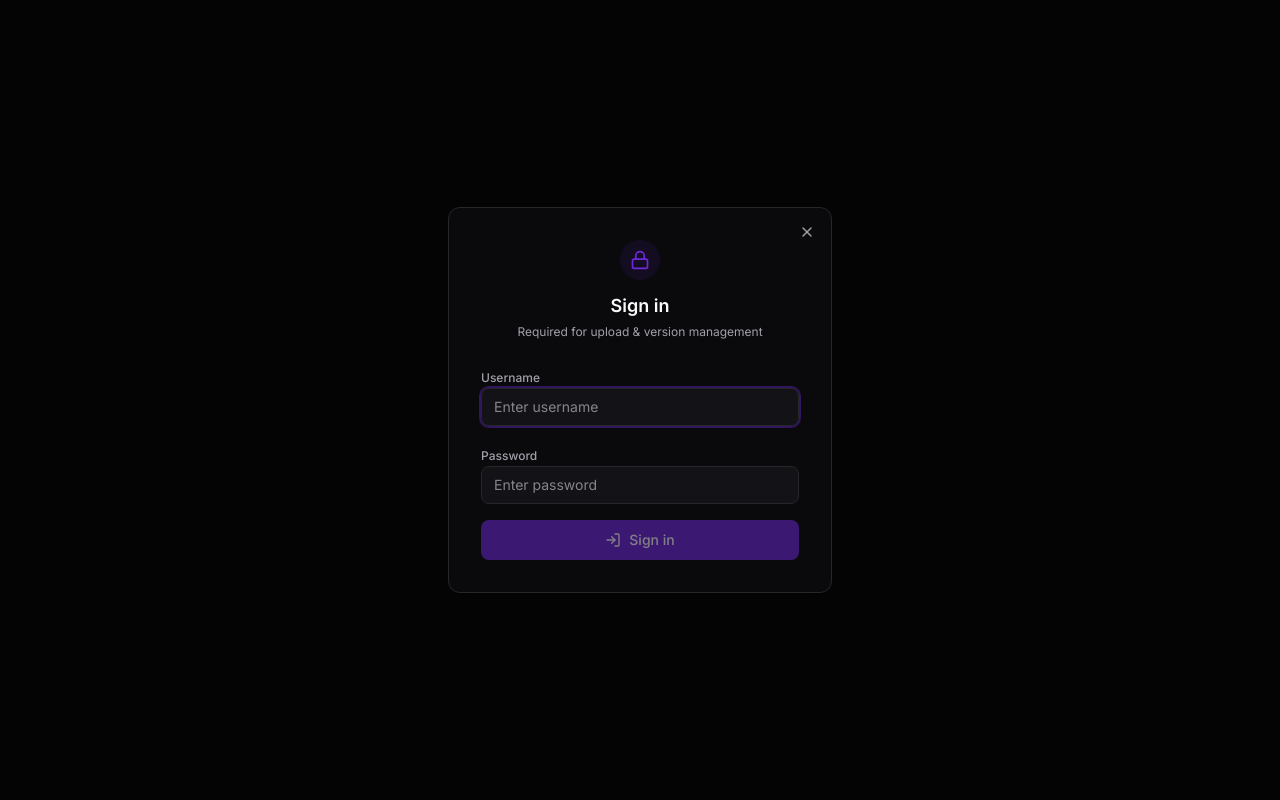
LoginModal › clears the previous error when submitting again
Type "alice" into the field with placeholder "Enter username" at (640, 407), box [481,388,799,426]
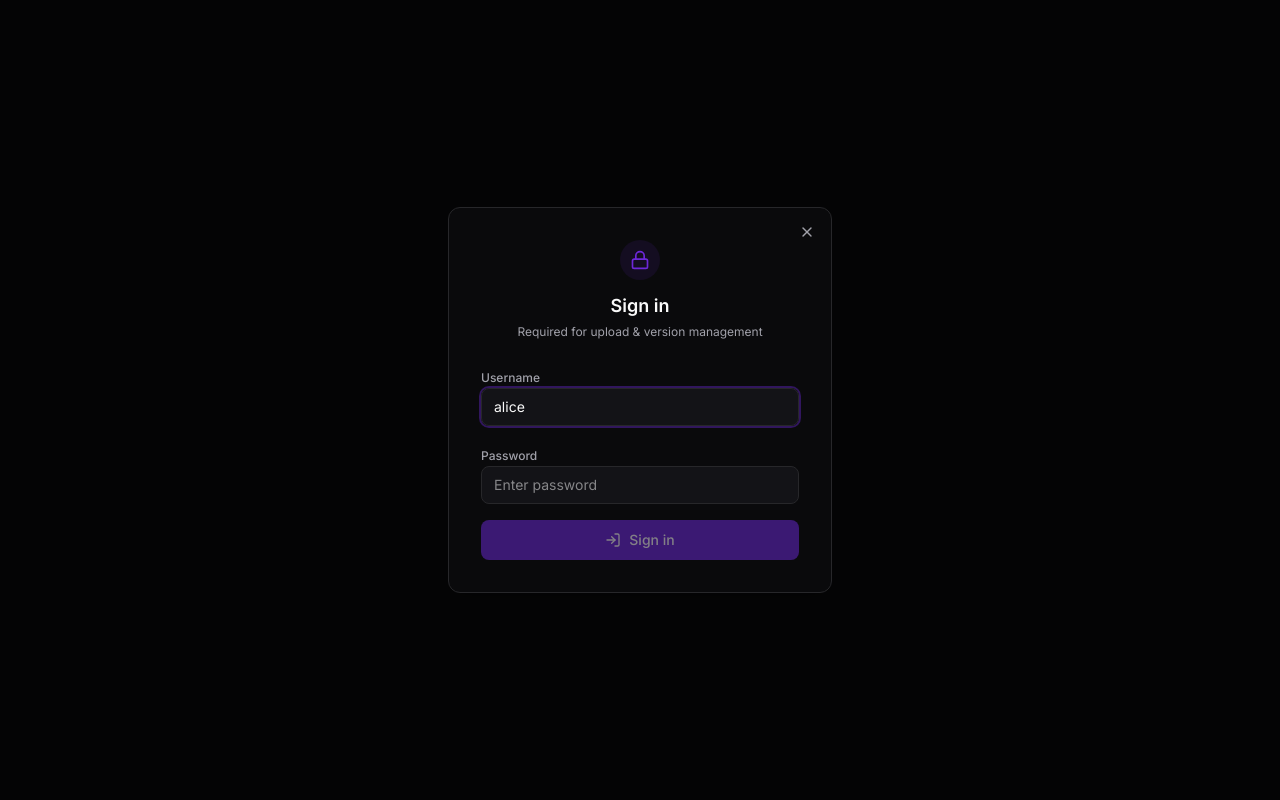
Type "bad" into the password field with placeholder "Enter password" at (640, 485), box [481,466,799,504]
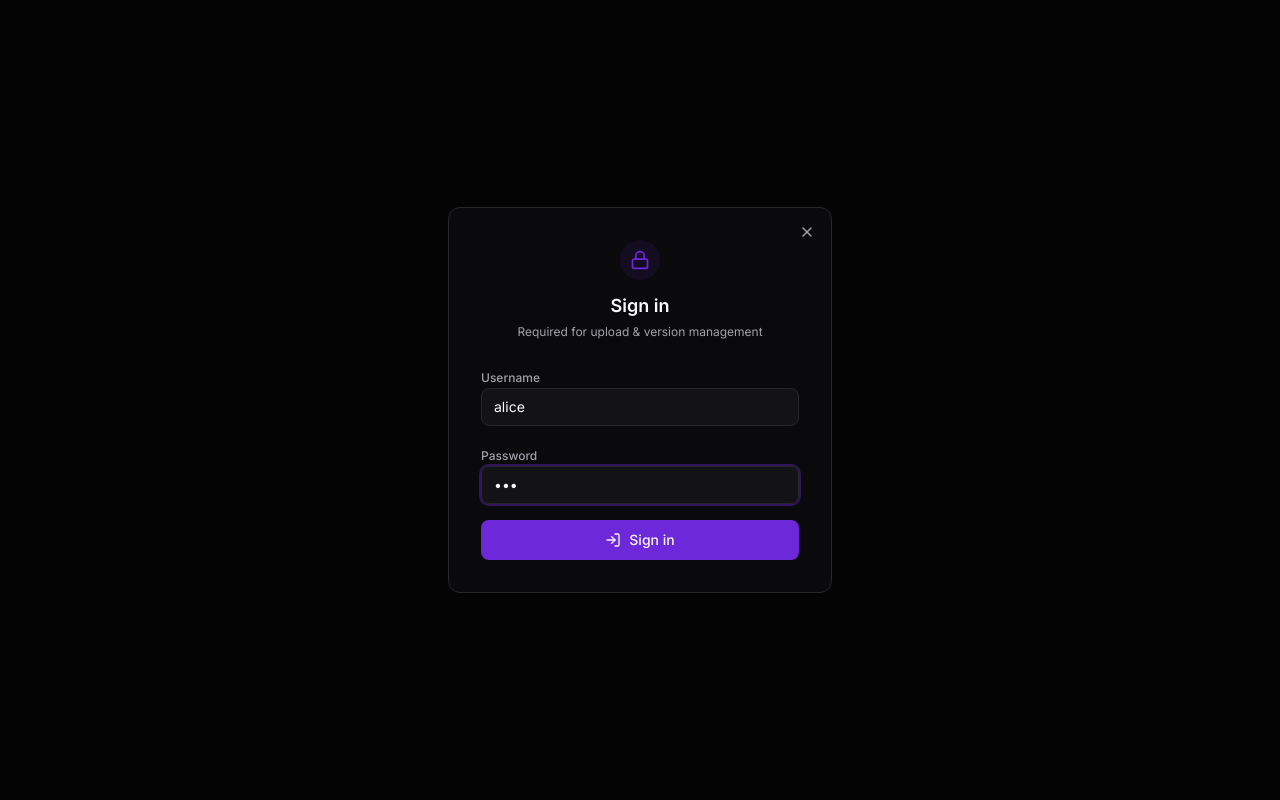
Click the button "Sign in" at (640, 540), box [481,520,799,560]
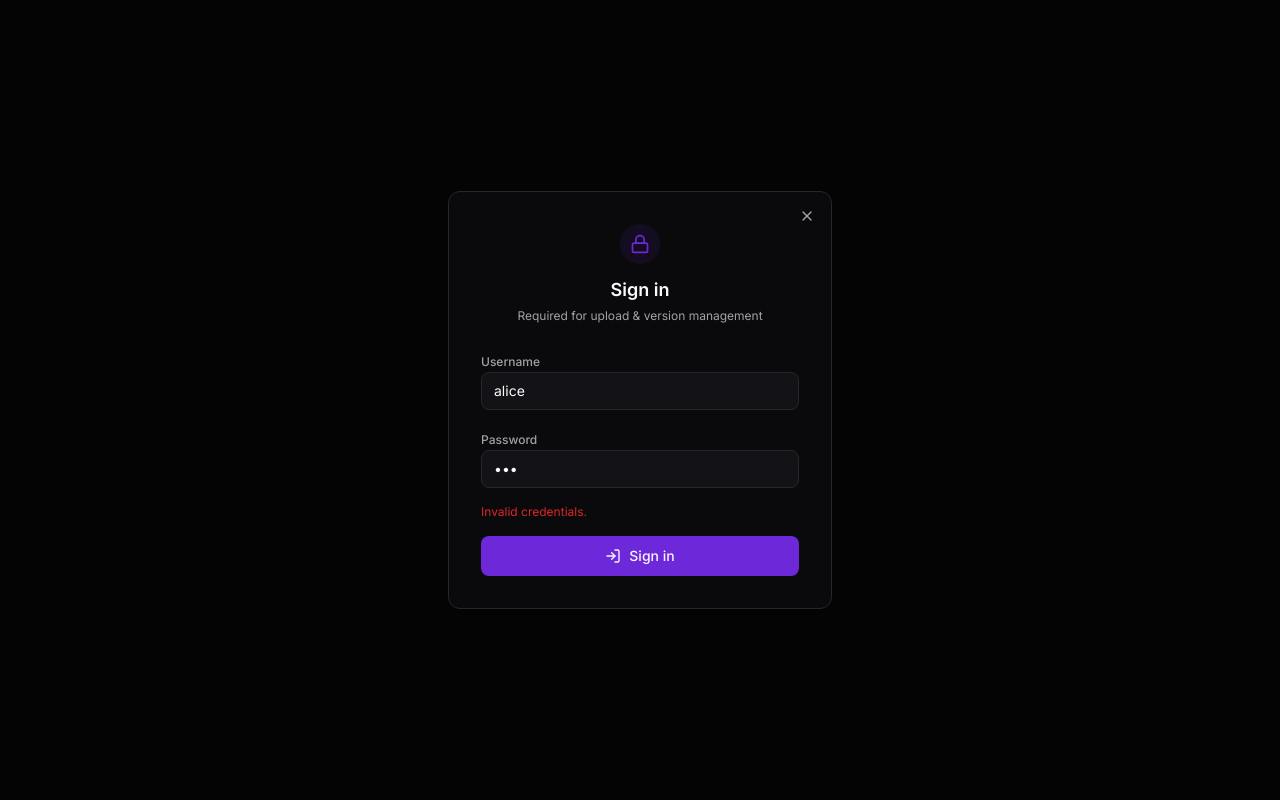
Expected: the text "Invalid credentials." is shown, [481,504,587,519]
Click the button "Sign in" at (640, 556), box [481,536,799,576]
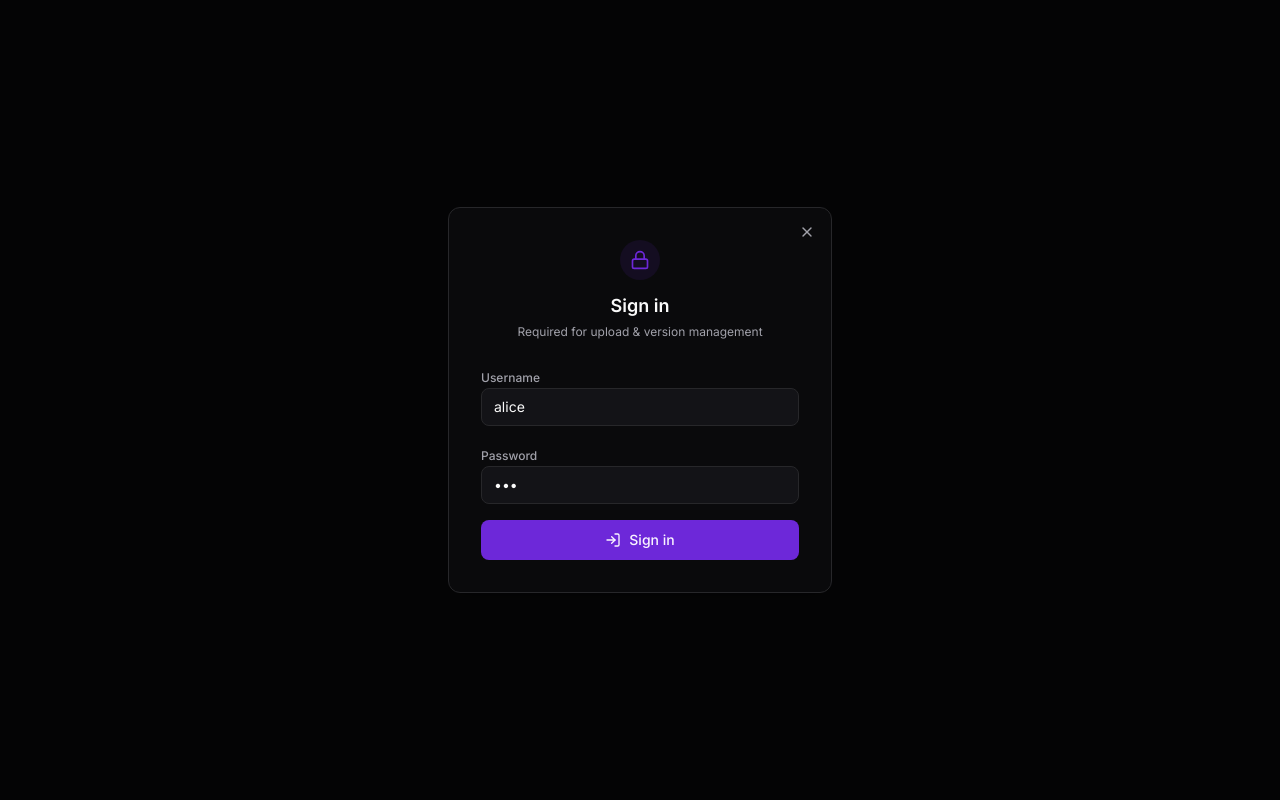
Expected: the text "Invalid credentials." is gone
